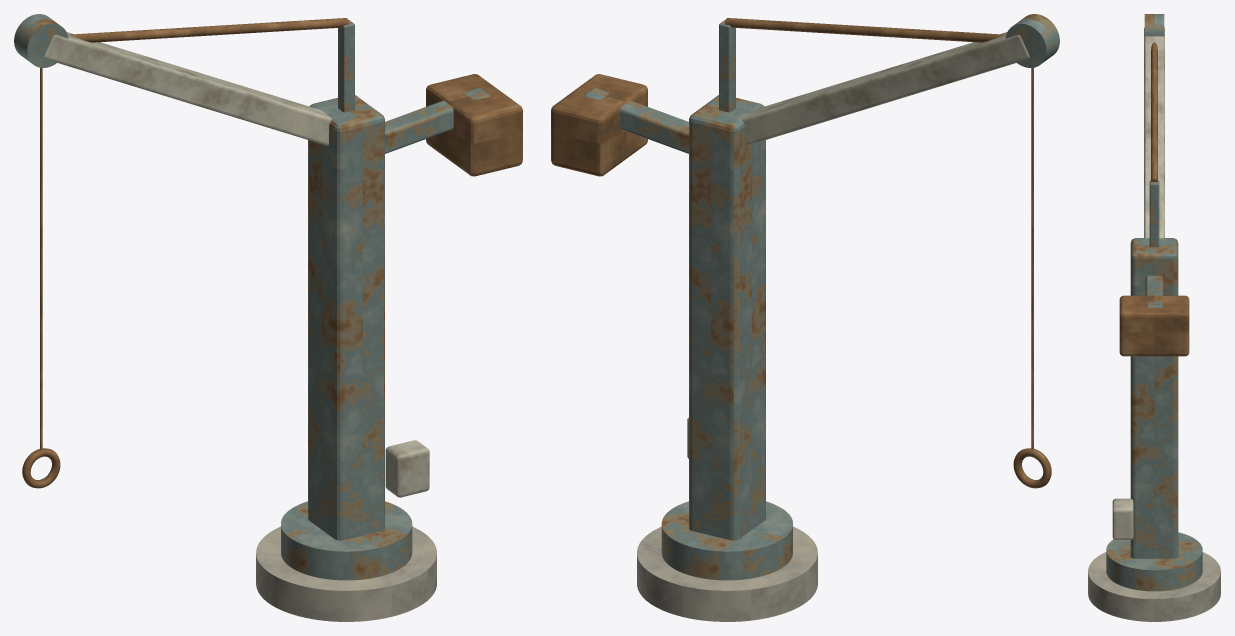
The model's file is Cargo_Crane.glb.
3 views of the same model, side by side, from view 1: azimuth 30°, elevation 25°; view 2: azimuth 150°, elevation 25°; view 3: azimuth 270°, elevation 25° (orthographic). The views are drawn at different scales.
Parts seen in each view (by area): view 1: Cargo_Crane; view 2: Cargo_Crane; view 3: Cargo_Crane.
Boxes of the visible parts, x1=… form: Cargo_Crane: x1=14, y1=14, x2=522, y2=621; Cargo_Crane: x1=551, y1=14, x2=1059, y2=621; Cargo_Crane: x1=1088, y1=14, x2=1220, y2=621.
Bounding box in the file's own units: 5.83 × 7.4 × 1.9.
Materials: 4 (4 with a texture image).
